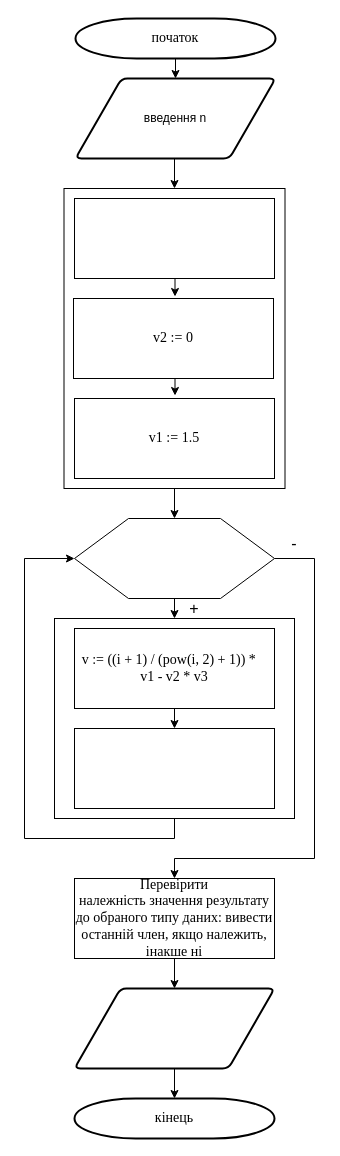
The diagram is 340 pixels wide and 1156 high, and some of its shapes have lost their labels. Each missing label, with the box of its shape:
i := 4, n, 1: (74, 518, 274, 598)
v3 := 0: (74, 198, 274, 278)
v3 := v2, v2 := v1, v1 := v: (74, 728, 274, 808)
виведення vn: (73, 987, 275, 1069)
